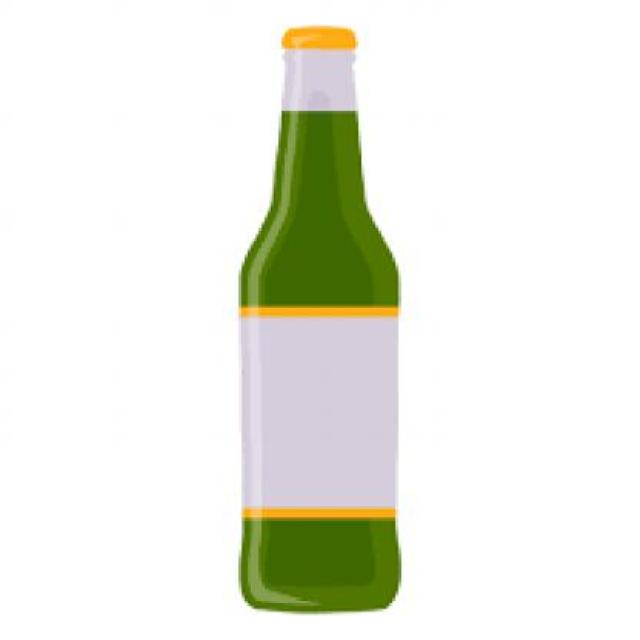GLASS: (233, 49, 401, 608)
METAL: (278, 22, 356, 48)
